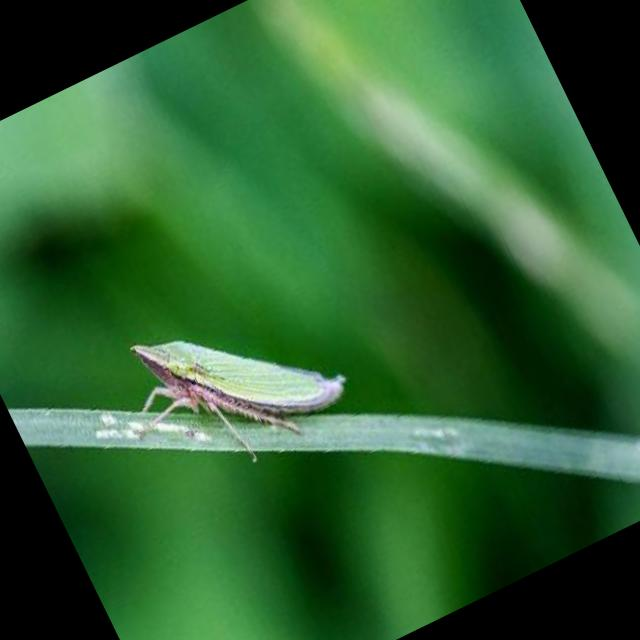green-leafhopper: (121, 265, 360, 494)
